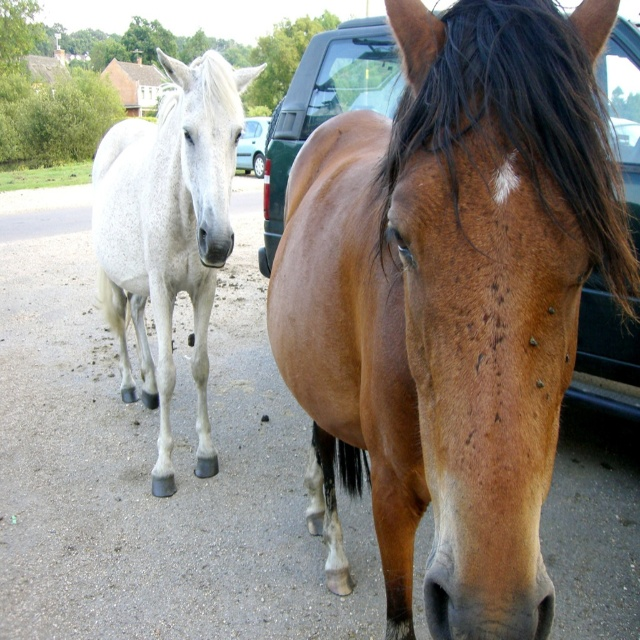Horse: (267, 2, 640, 639), (91, 48, 268, 498)
